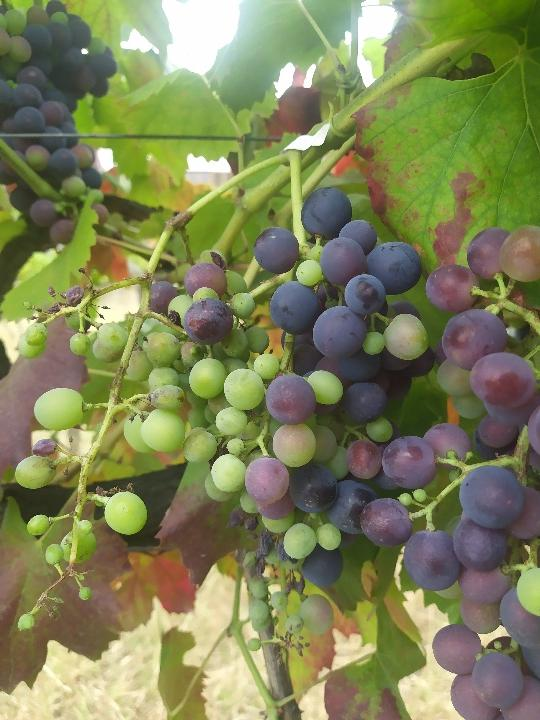grape: (200, 183, 432, 666), (14, 247, 235, 633)
